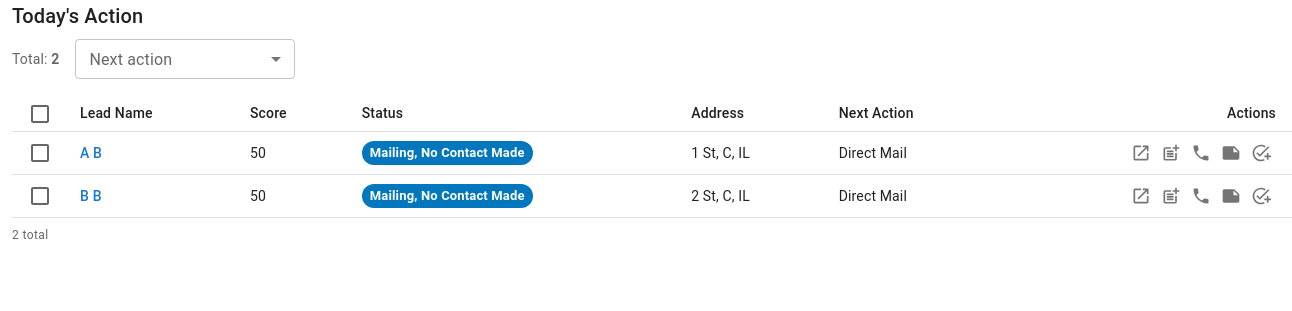
Test: TodaysActionQueue › renders next-action filter and selects all Direct Mail leads
Click the dropdown named "Next action": (185, 59) [75,39,295,79]
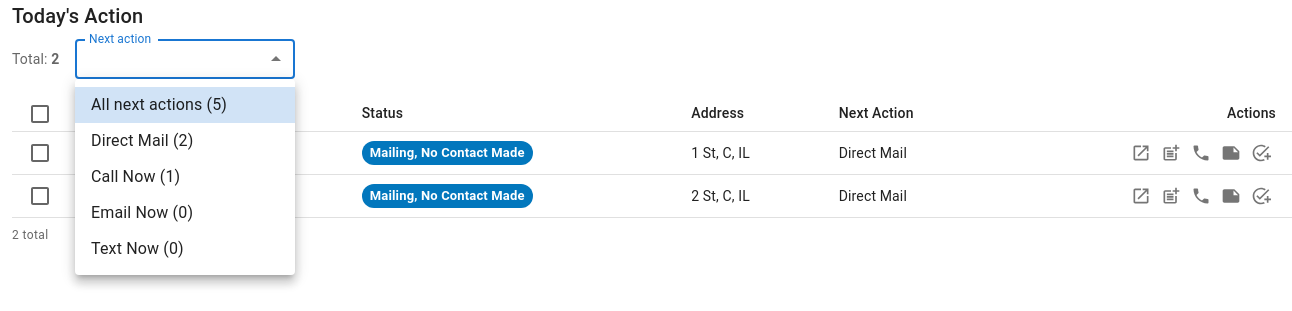
Click the option "Direct Mail (2)": (142, 140) [91,131,194,150]
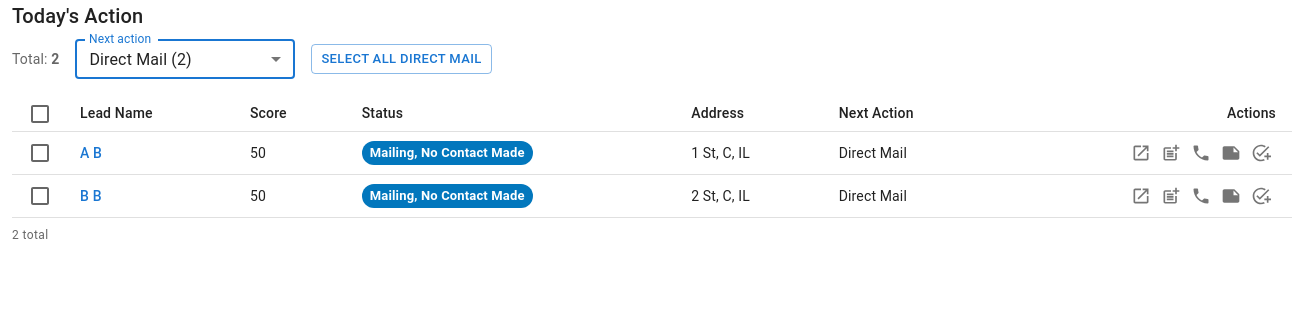
Click the button with test id "todays-action-select-all-matching": (402, 59) [311,44,492,74]
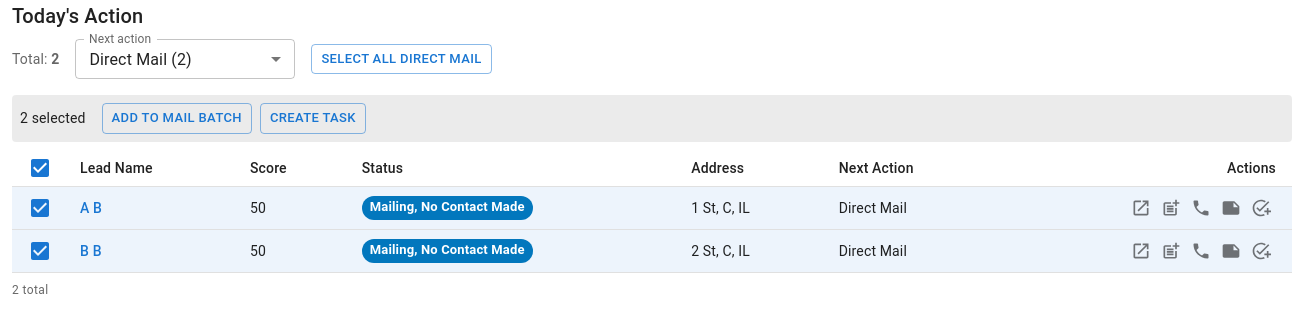
Expected: the element with test id "bulk-action-bar" is shown, [12,95,1291,142]
